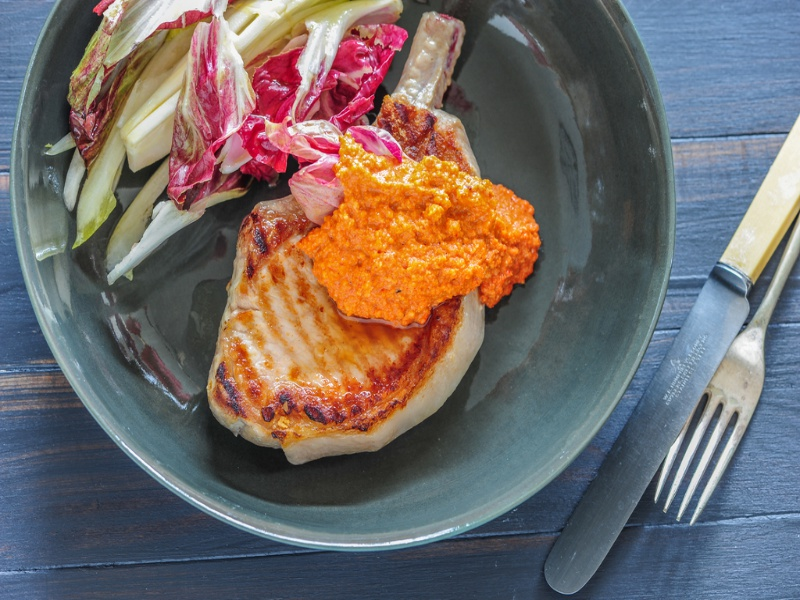knife: (531, 85, 794, 600)
